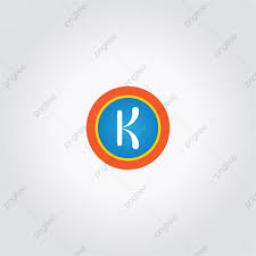k: (114, 102, 144, 152)
